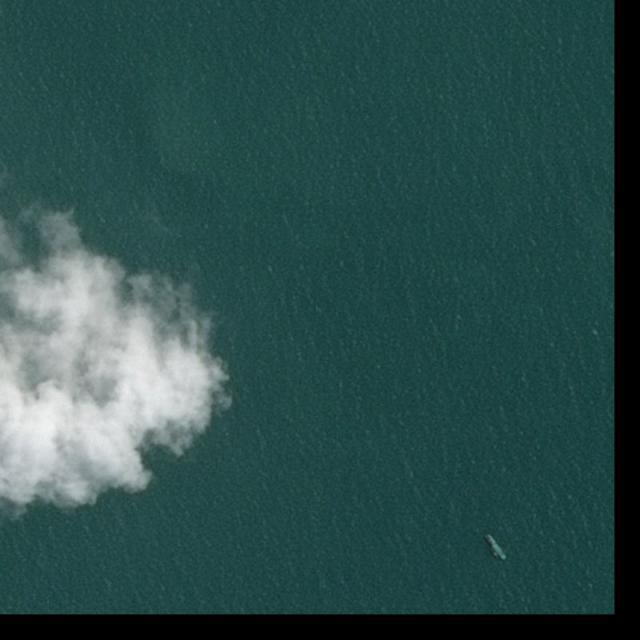ship: (484, 533, 509, 562), (491, 550, 499, 560)
